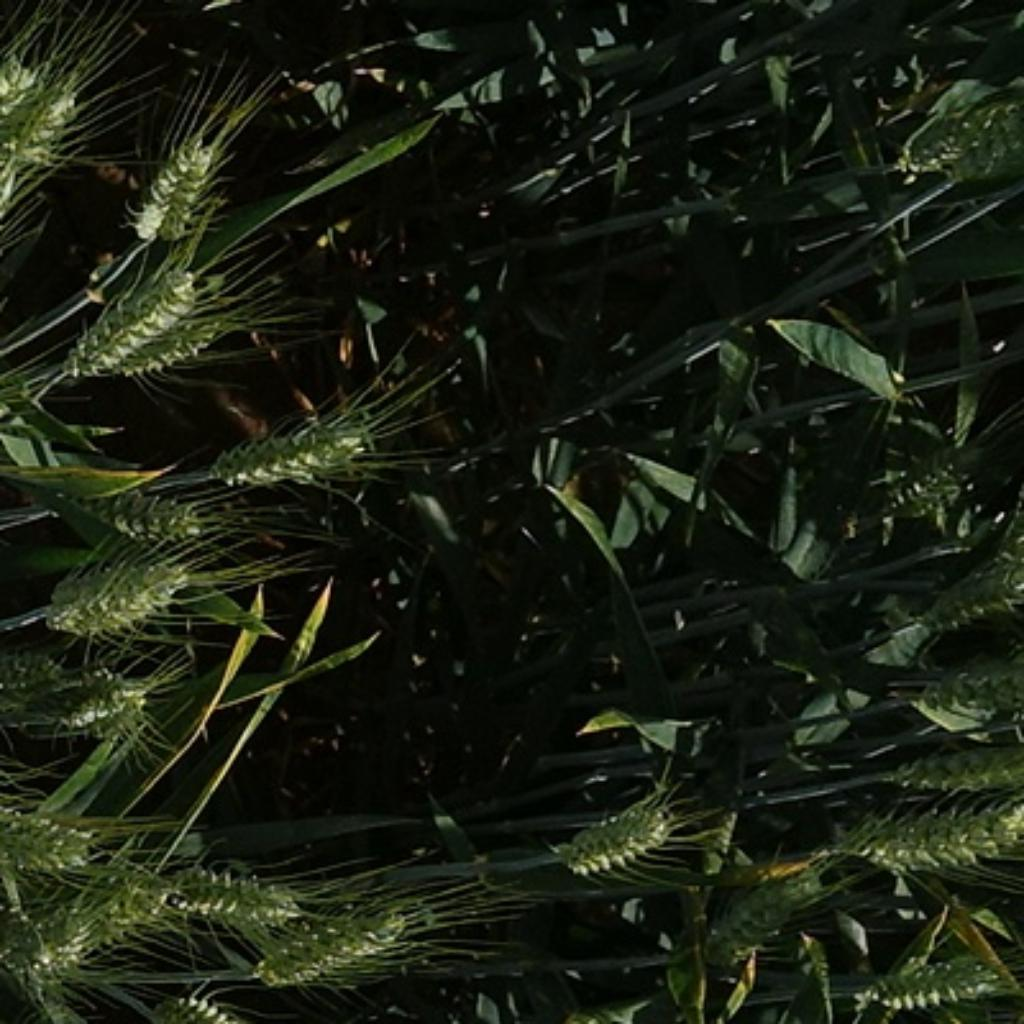0-0: (44, 839, 215, 982), (250, 880, 422, 995), (686, 849, 837, 975), (53, 266, 202, 389), (842, 430, 985, 558), (212, 409, 389, 501), (33, 545, 202, 637), (855, 793, 1024, 880), (125, 122, 227, 248), (888, 93, 1021, 189), (148, 852, 309, 929), (0, 68, 98, 194), (550, 788, 683, 880), (852, 944, 1013, 1018), (94, 317, 253, 384), (74, 473, 215, 545), (880, 734, 1024, 803), (0, 898, 99, 990), (906, 560, 1024, 637), (51, 660, 153, 744), (0, 791, 94, 872), (0, 632, 76, 709), (0, 30, 44, 136), (148, 983, 261, 1024), (253, 684, 365, 692)
